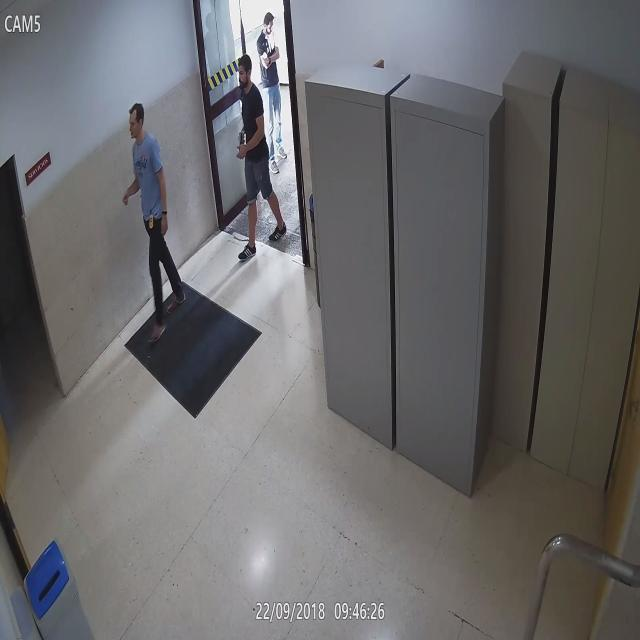Gun: (229, 123, 253, 157)
